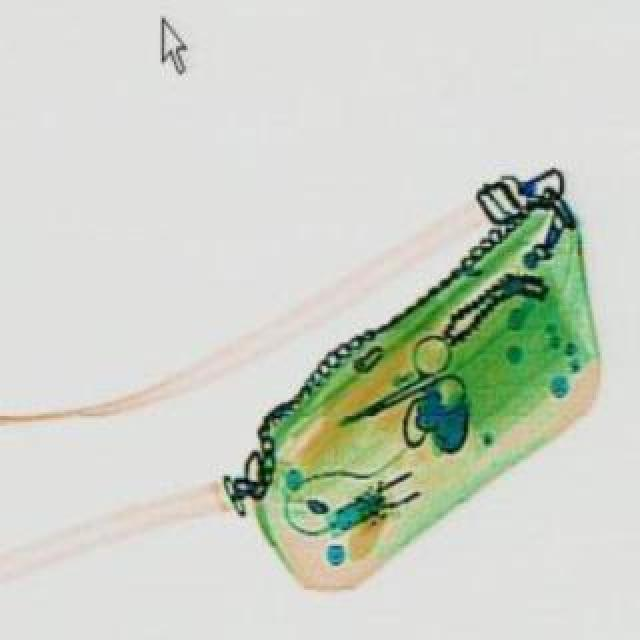pliers: (316, 322, 480, 452)
